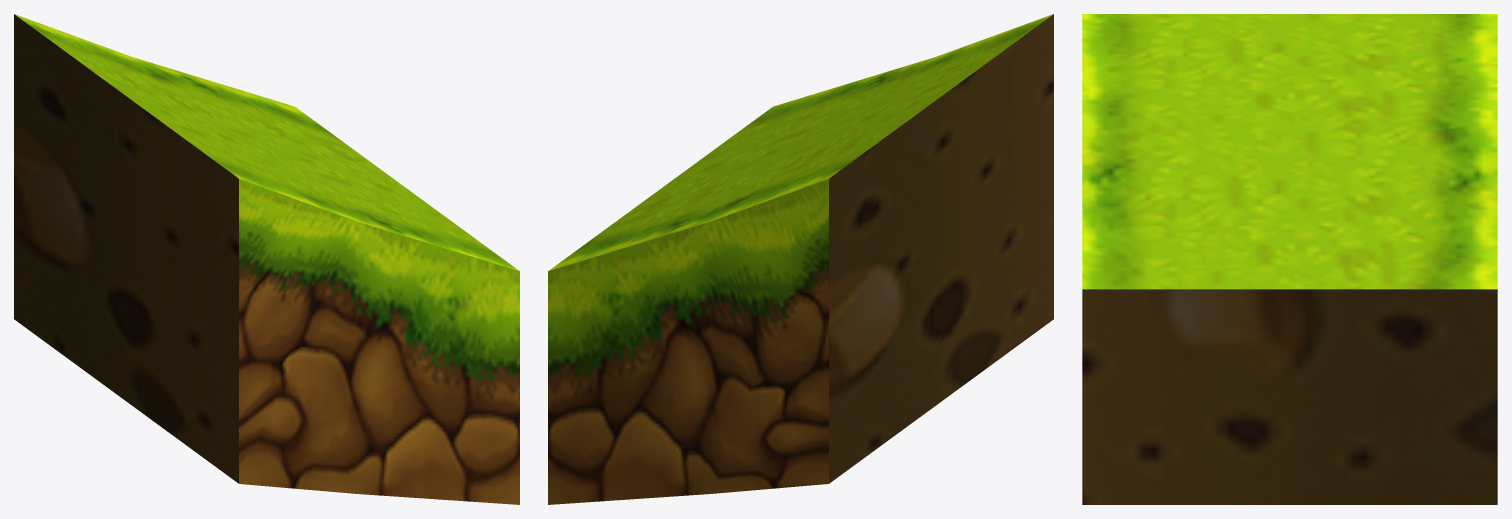
Rendered from Road_2.fbx.
3 views of the same model, side by side, from view 1: azimuth 30°, elevation 25°; view 2: azimuth 150°, elevation 25°; view 3: azimuth 270°, elevation 25° (orthographic). The views are drawn at different scales.
Parts seen in each view (by area): view 1: Road_2; view 2: Road_2; view 3: Road_2.
Part boxes in pixels (x1,y1,x2,y2): Road_2: [14, 14, 519, 504]; Road_2: [548, 14, 1053, 504]; Road_2: [1082, 14, 1497, 504].
Size of the model in its own units: 3.07 by 4.12 by 4.26.
1 material, 1 textured.
